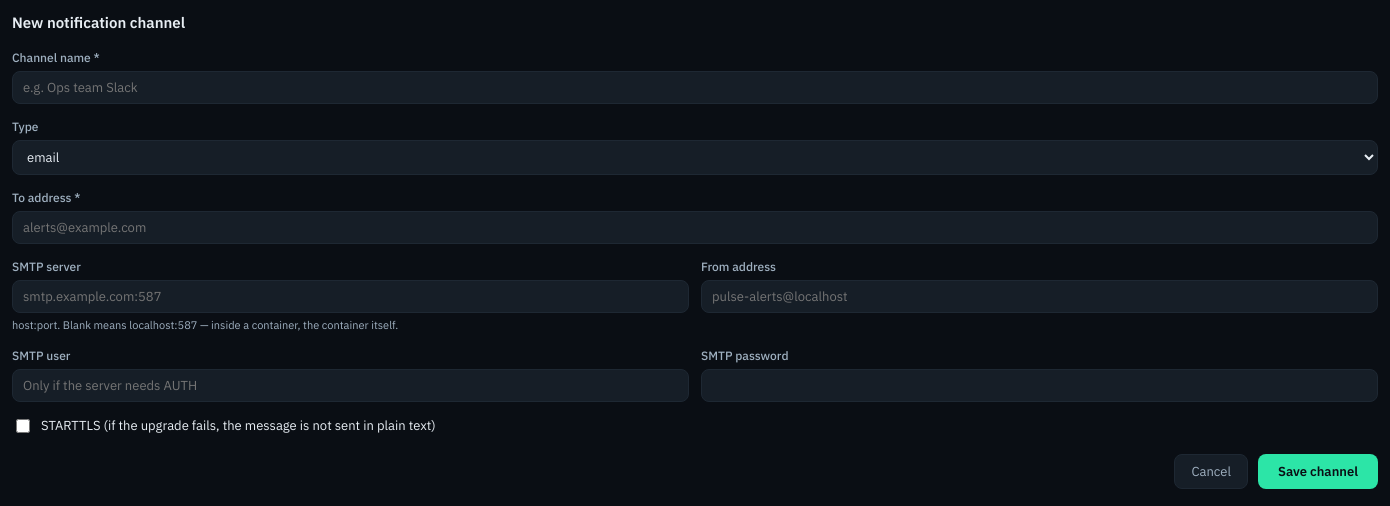
Test: AlertChannelForm › (e) type switch — selecting slack shows Slack webhook URL field
Select "slack" in the dropdown at (695, 157), box [12,140,1378,174]
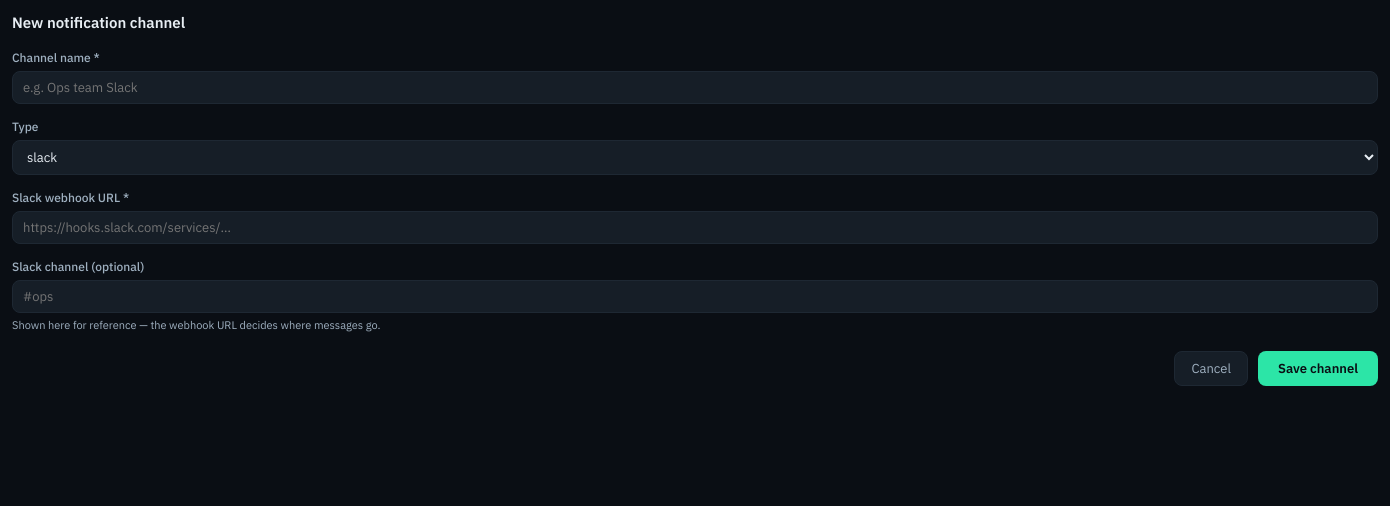
Now the field with placeholder "https://hooks.slack.com/services/…" is shown, box [12,210,1378,244]
